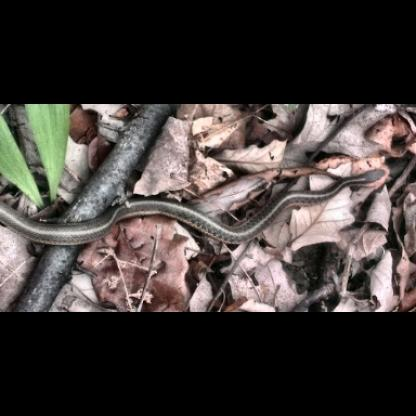Snake: (13, 164, 390, 249)
